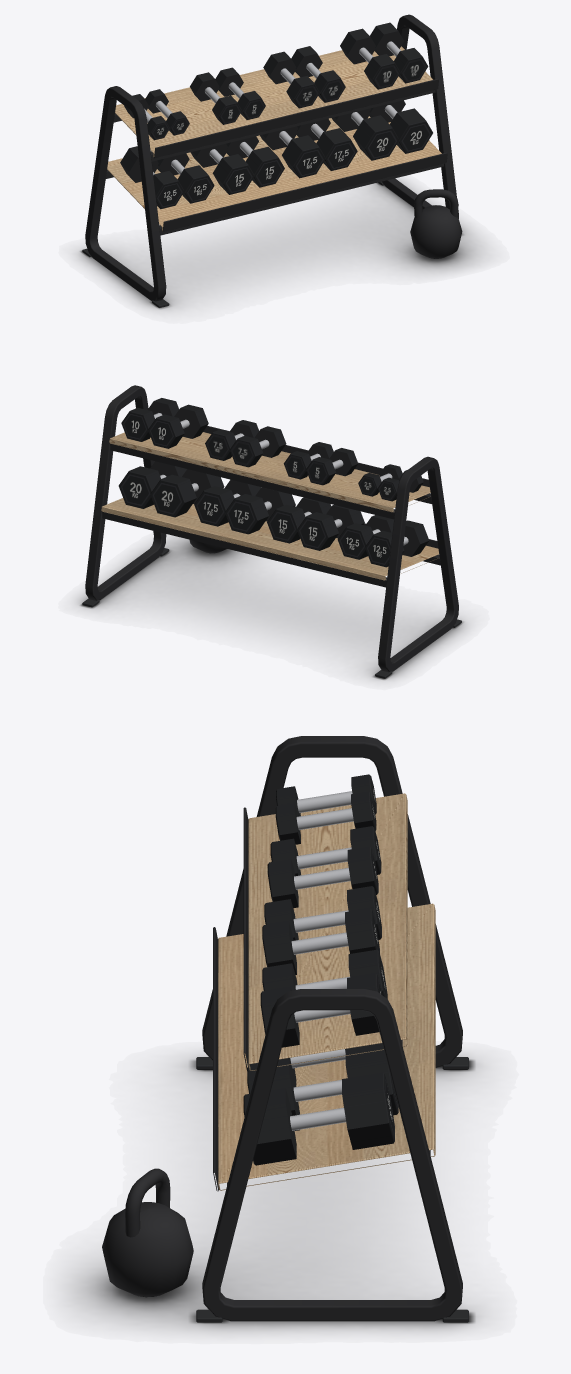
File: dumbbell_rack.glb
3 renders of one model, top to bottom at view 1: azimuth 30°, elevation 25°; view 2: azimuth 150°, elevation 25°; view 3: azimuth 270°, elevation 25°, orthographic. The views are drawn at different scales.
Parts seen in each view (by area): view 1: dumbbell_rack_LOD0, dumbbell_rack_Shadow; view 2: dumbbell_rack_LOD0, dumbbell_rack_Shadow; view 3: dumbbell_rack_LOD0, dumbbell_rack_Shadow.
Boxes of the visible parts, left/top/right/bottom form: dumbbell_rack_LOD0: left=82, top=14, right=462, bottom=307; dumbbell_rack_Shadow: left=78, top=179, right=480, bottom=309; dumbbell_rack_LOD0: left=82, top=385, right=461, bottom=678; dumbbell_rack_Shadow: left=78, top=536, right=466, bottom=680; dumbbell_rack_LOD0: left=102, top=736, right=468, bottom=1322; dumbbell_rack_Shadow: left=74, top=1055, right=479, bottom=1331.
Size of what is drawn, in the model's own units: 1.81 by 0.82 by 1.23.
Materials: 5 (4 with a texture image).
